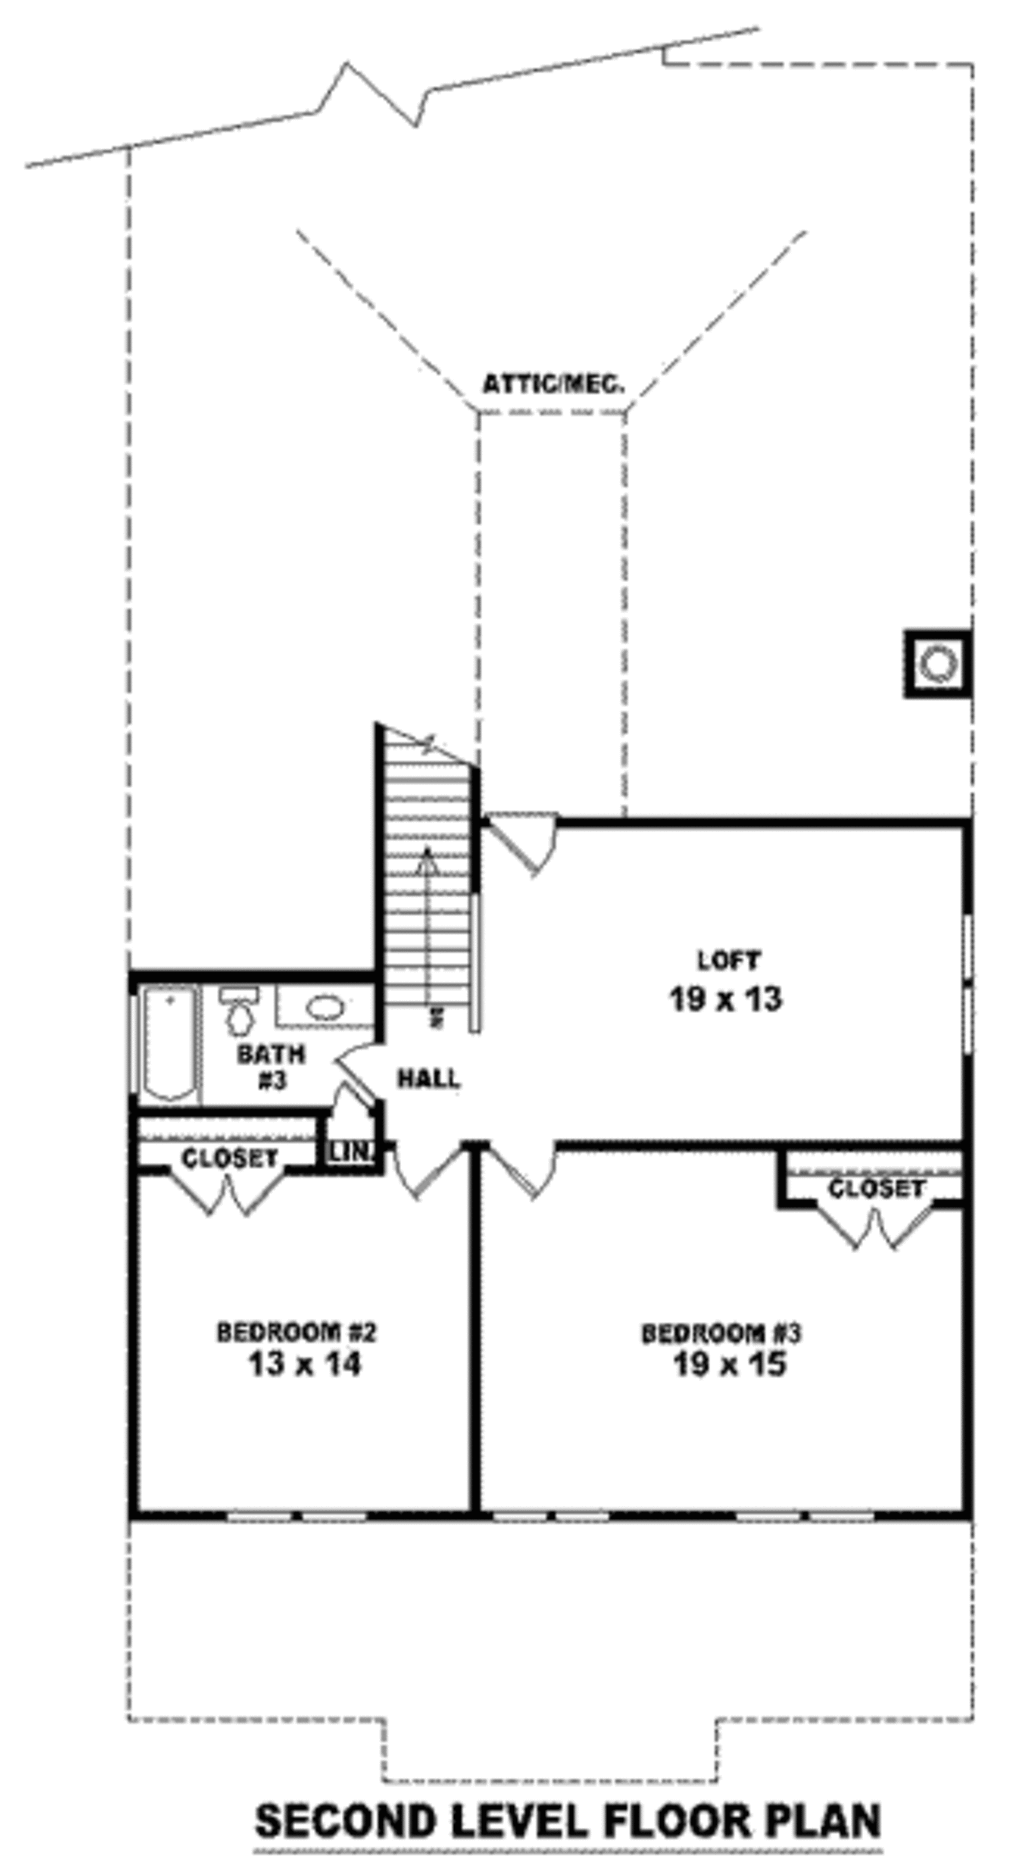door: (807, 1173, 946, 1250), (169, 1147, 293, 1229), (475, 781, 562, 897), (334, 1044, 407, 1132), (390, 1144, 475, 1205), (487, 1138, 560, 1197)
large_sink: (211, 976, 269, 1055)
small_sink: (284, 979, 363, 1032)
stairs: (369, 667, 469, 1035)
tub: (131, 988, 216, 1138)
window: (195, 1494, 366, 1538), (951, 905, 999, 1061), (463, 1494, 637, 1531), (723, 1489, 866, 1529)
